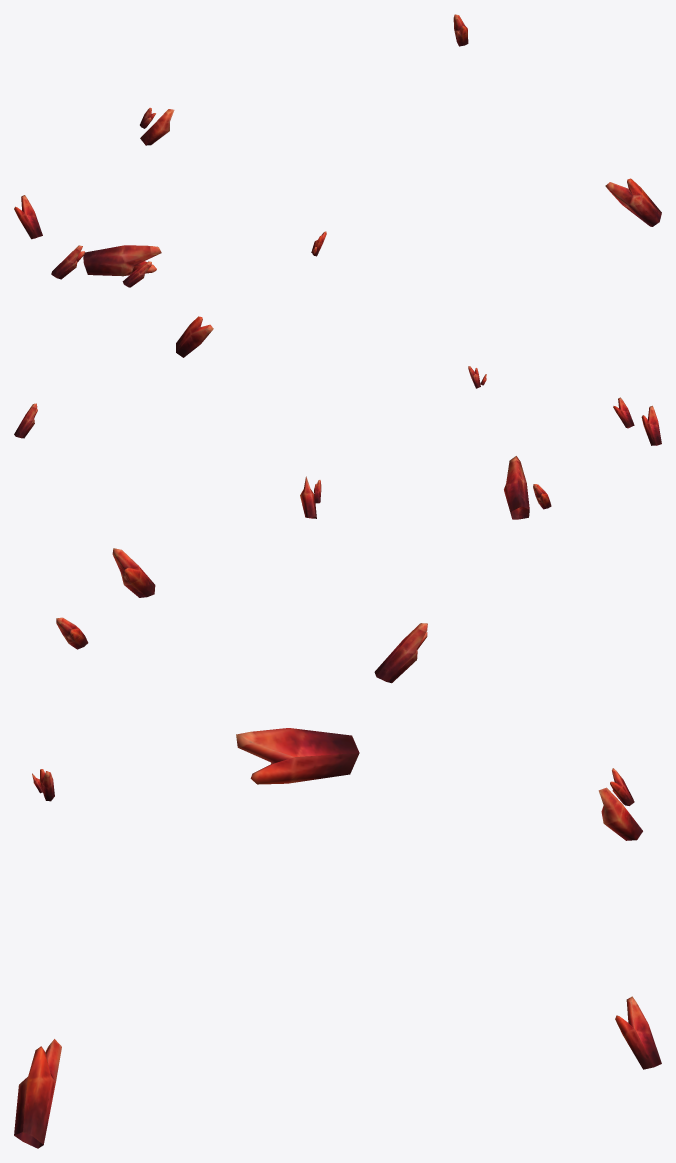
Rendered from area_06_huoshuijing.FBX.
The picture shows the model from 3 angles, top to bottom: view 1: azimuth 30°, elevation 25°; view 2: azimuth 150°, elevation 25°; view 3: azimuth 270°, elevation 25°; orthographic projection. The views are drawn at different scales.
Visible parts, largest first — view 1: area_06_huoshuijing; view 2: area_06_huoshuijing; view 3: area_06_huoshuijing.
Part boxes in pixels (box(x1,y1,x2,y2)): area_06_huoshuijing: box(14, 14, 661, 287); area_06_huoshuijing: box(14, 316, 661, 519); area_06_huoshuijing: box(14, 548, 661, 1148).
Bounding box in the file's own units: 4058 × 653 × 2390.
